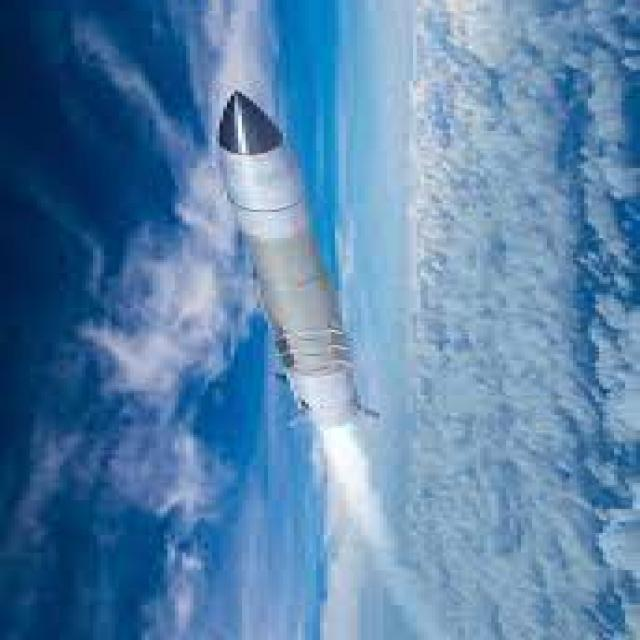missile: (227, 87, 364, 455)
